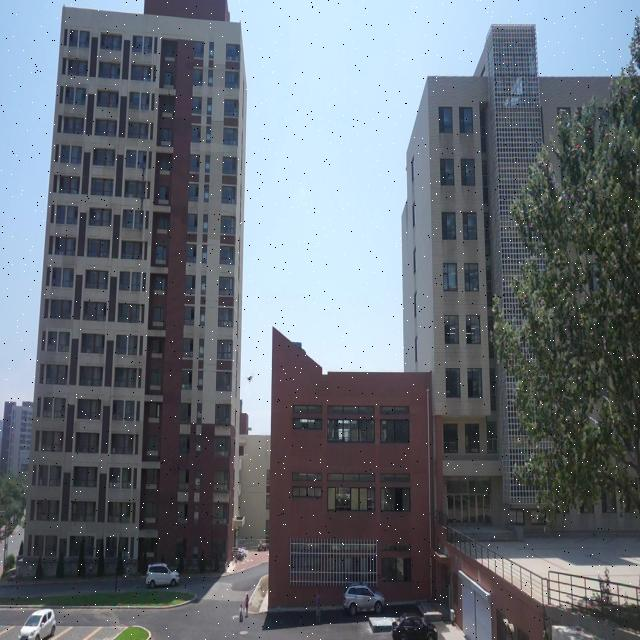UAV: (245, 373, 256, 384)
